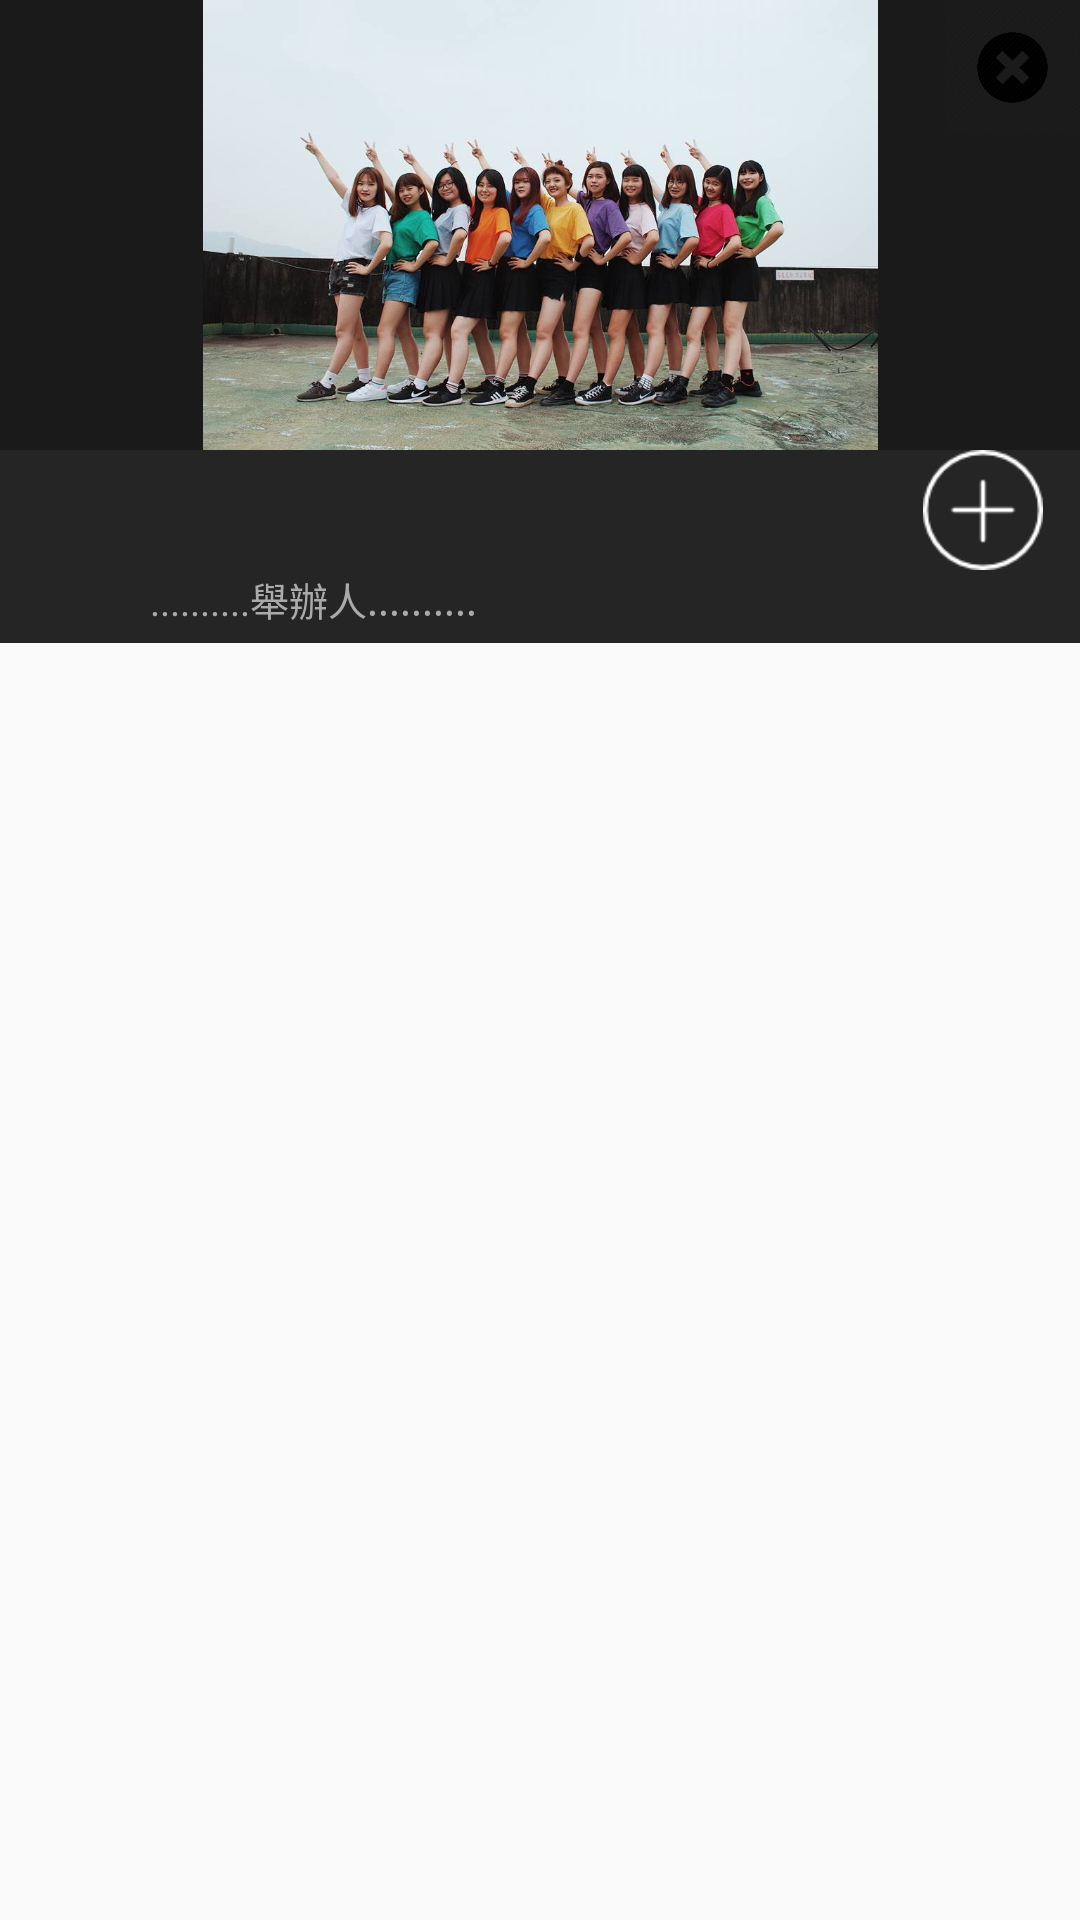

Locate icon controls on the screen. Image size 1080×1920, boxes as (x1=x1, y1=y1, x2=x2, y2=y2).
add: (x1=923, y1=450, x2=1043, y2=570)
